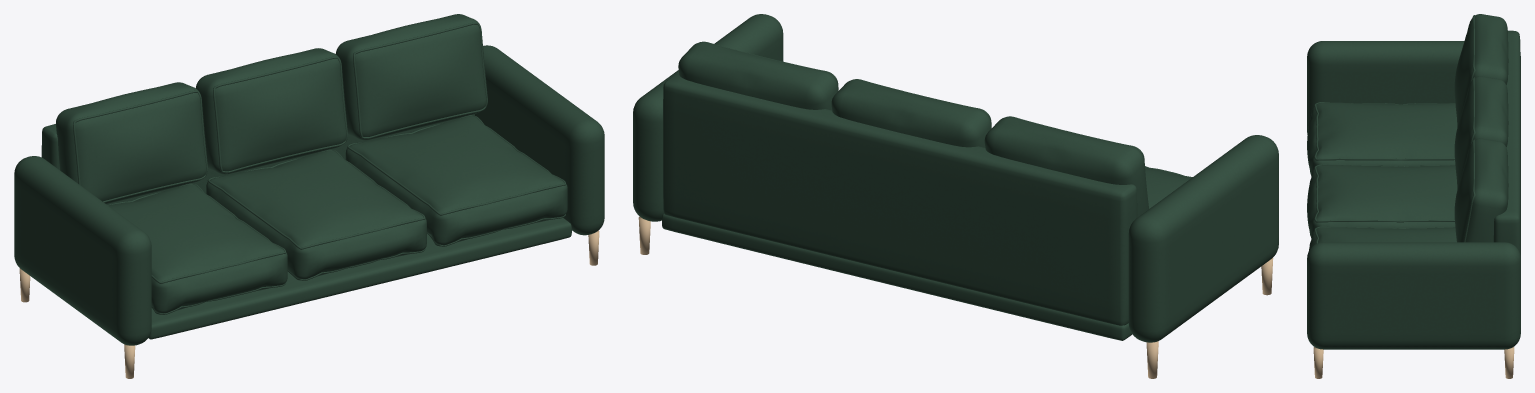
File: nordico-3-cuerpos.glb
The picture shows the model from 3 angles, left to right: view 1: azimuth 30°, elevation 25°; view 2: azimuth 150°, elevation 25°; view 3: azimuth 270°, elevation 25°; orthographic projection. The views are drawn at different scales.
Visible parts, largest first — view 1: tela, madera; view 2: tela, madera; view 3: tela, madera.
Boxes of the visible parts, x1,y1,x2,y2 form: tela: (14, 14, 604, 345); madera: (19, 230, 599, 378); tela: (633, 14, 1278, 342); madera: (638, 216, 1273, 378); tela: (1307, 14, 1520, 349); madera: (1313, 347, 1514, 378).
Bounding box in the file's own units: 2.2 × 0.8266 × 0.92.
Materials: 2 (1 with a texture image).
